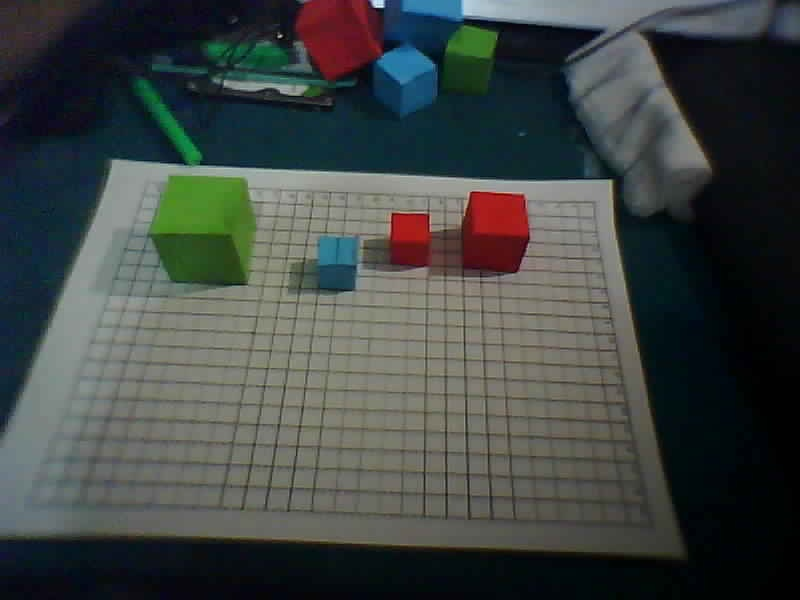blue(2x2x2): (310, 232, 360, 292)
green(4x4x4): (146, 163, 273, 297)
red(2x2x2): (371, 210, 444, 279)
red(3x3x3): (458, 188, 534, 281)
